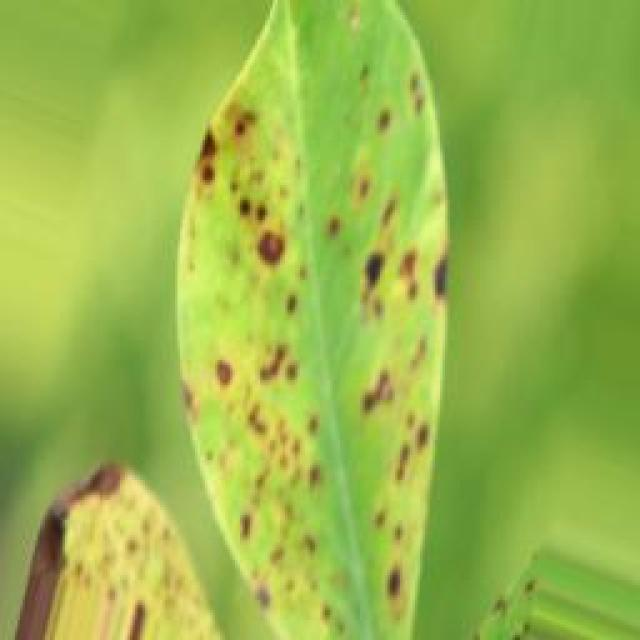Yellowish: (49, 67, 530, 629)
